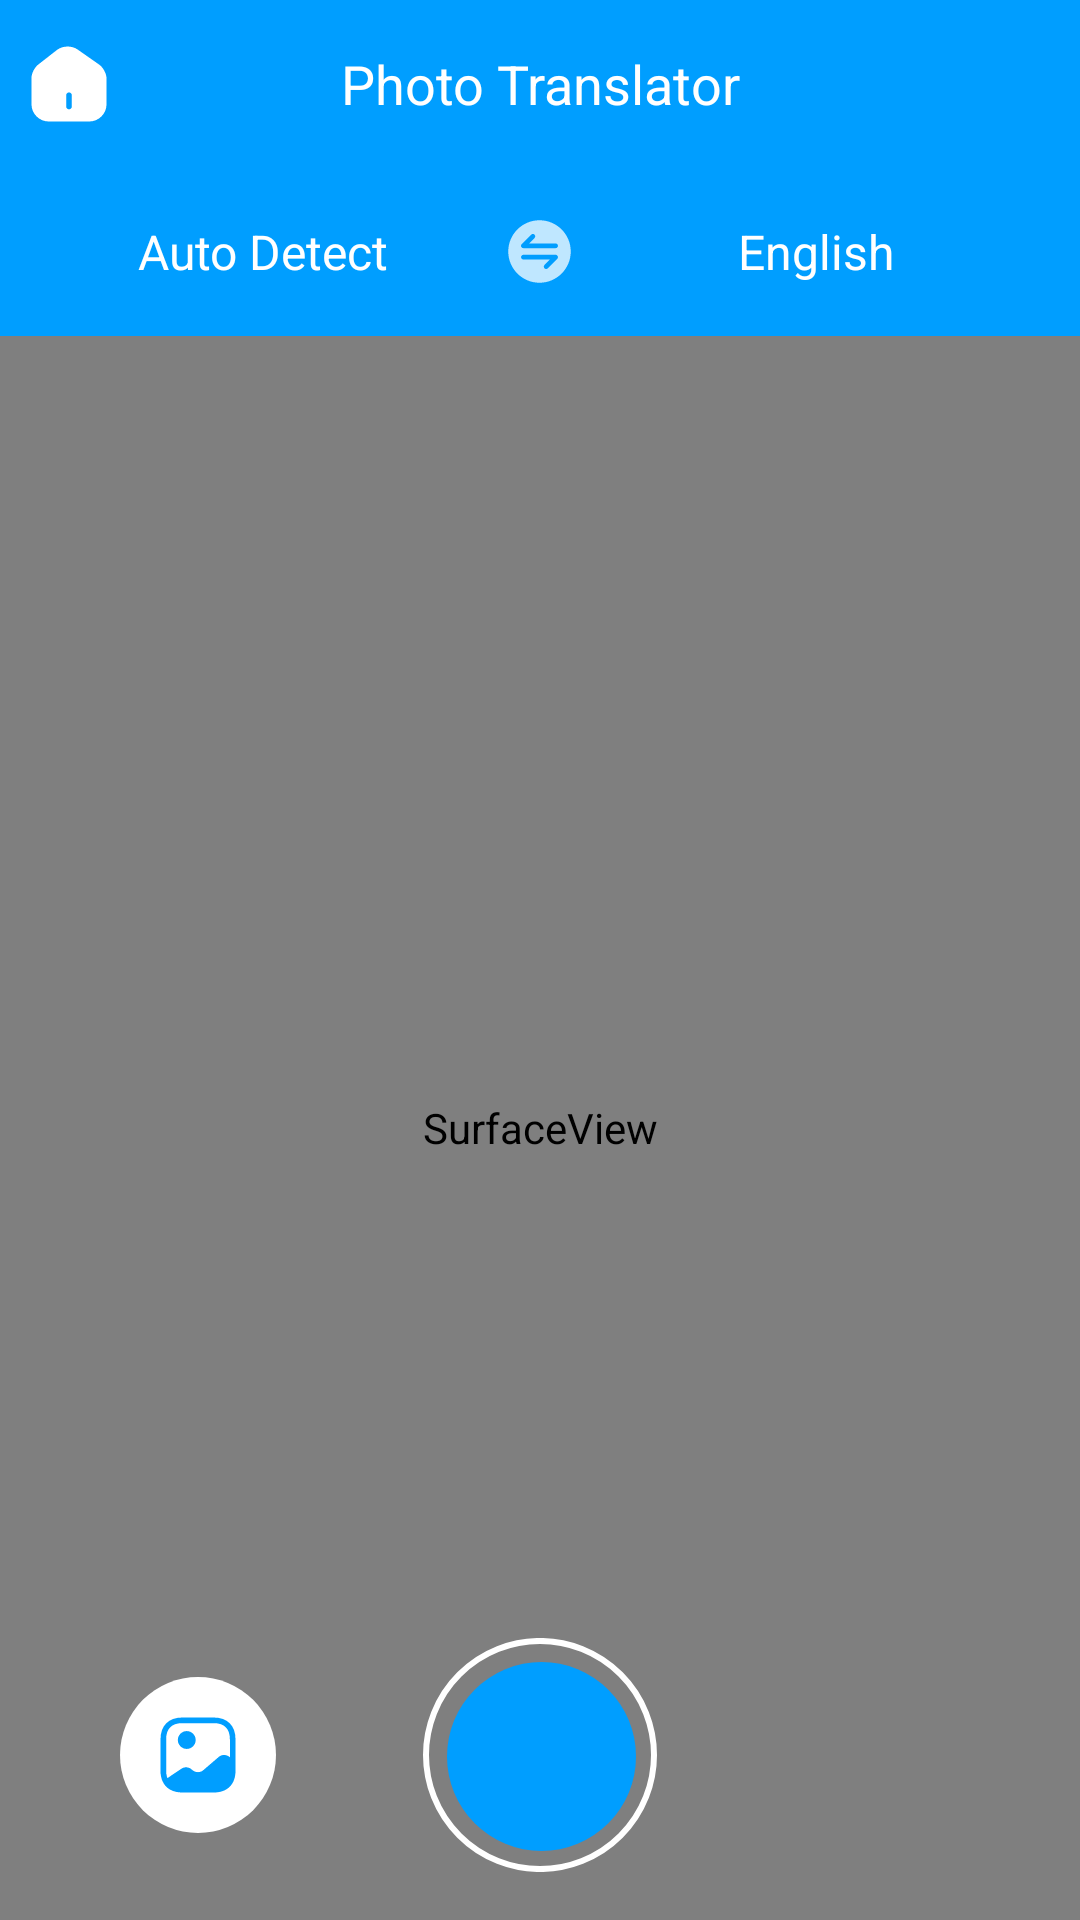

Point at icon controls on the screen. Image size 1080px×1920px, points as [x,y].
click: [540,1755]
gallery: [198,1755]
home: [69,84]
swap: [539,251]
